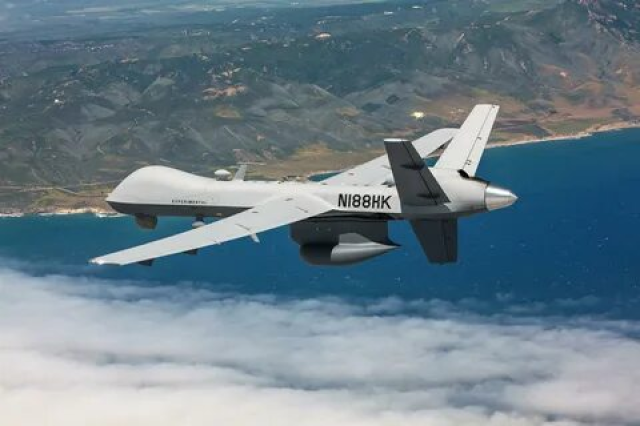military drone: (87, 103, 518, 265)
